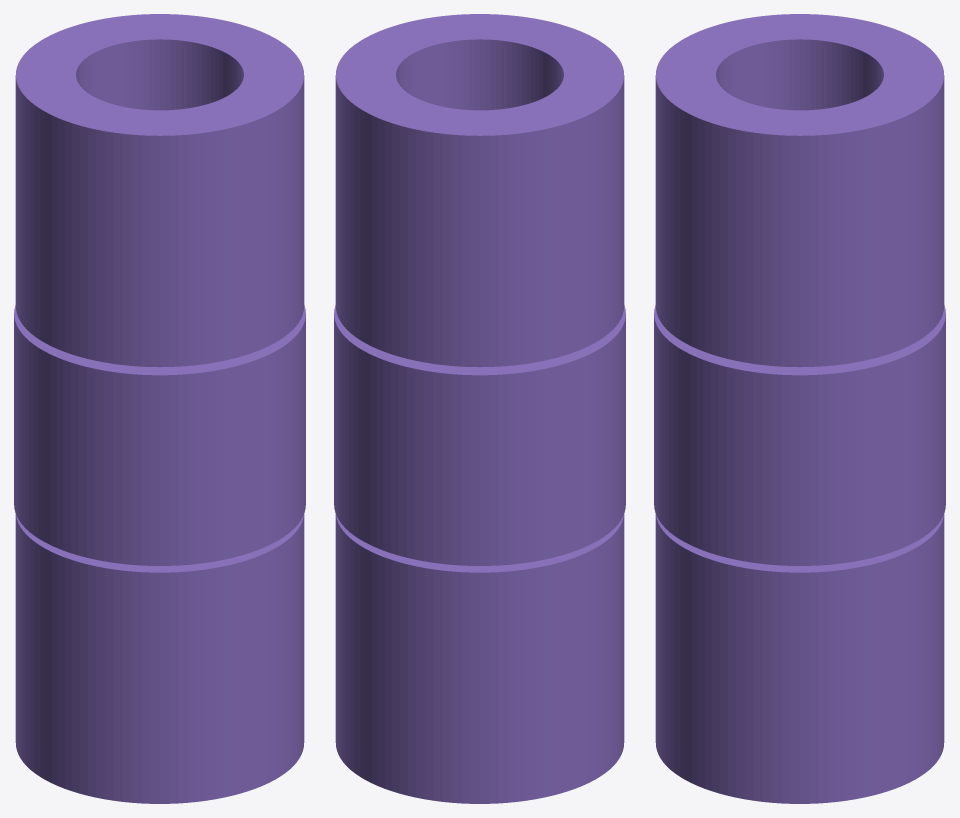
File: rtrt.fbx
3 views of the same model, side by side, from view 1: azimuth 30°, elevation 25°; view 2: azimuth 150°, elevation 25°; view 3: azimuth 270°, elevation 25° (orthographic).
Visible parts, largest first — view 1: /tmp/importOpenSceneGraph9cef9/RTRT.wrl_Group_MatrixTransfor (×2), /tmp/importOpenSceneGraph9cef9/RTRT.wrl_Group__Geometry_0; view 2: /tmp/importOpenSceneGraph9cef9/RTRT.wrl_Group_MatrixTransfor (×2), /tmp/importOpenSceneGraph9cef9/RTRT.wrl_Group__Geometry_0; view 3: /tmp/importOpenSceneGraph9cef9/RTRT.wrl_Group_MatrixTransfor (×2), /tmp/importOpenSceneGraph9cef9/RTRT.wrl_Group__Geometry_0.
Part boxes in pixels (box(x1,y1,x2,y2)): /tmp/importOpenSceneGraph9cef9/RTRT.wrl_Group_MatrixTransfor (×2): box(15, 14, 304, 803); /tmp/importOpenSceneGraph9cef9/RTRT.wrl_Group__Geometry_0: box(14, 305, 305, 565); /tmp/importOpenSceneGraph9cef9/RTRT.wrl_Group_MatrixTransfor (×2): box(335, 14, 624, 803); /tmp/importOpenSceneGraph9cef9/RTRT.wrl_Group__Geometry_0: box(334, 305, 625, 565); /tmp/importOpenSceneGraph9cef9/RTRT.wrl_Group_MatrixTransfor (×2): box(655, 14, 944, 803); /tmp/importOpenSceneGraph9cef9/RTRT.wrl_Group__Geometry_0: box(654, 305, 945, 565).
Size of the model in its own units: 2160 by 5456 by 2160.
